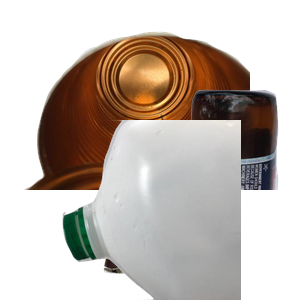glass: (87, 87, 300, 267)
metal: (21, 29, 261, 209)
plastic: (60, 120, 300, 300)
trash: (101, 157, 270, 300)
